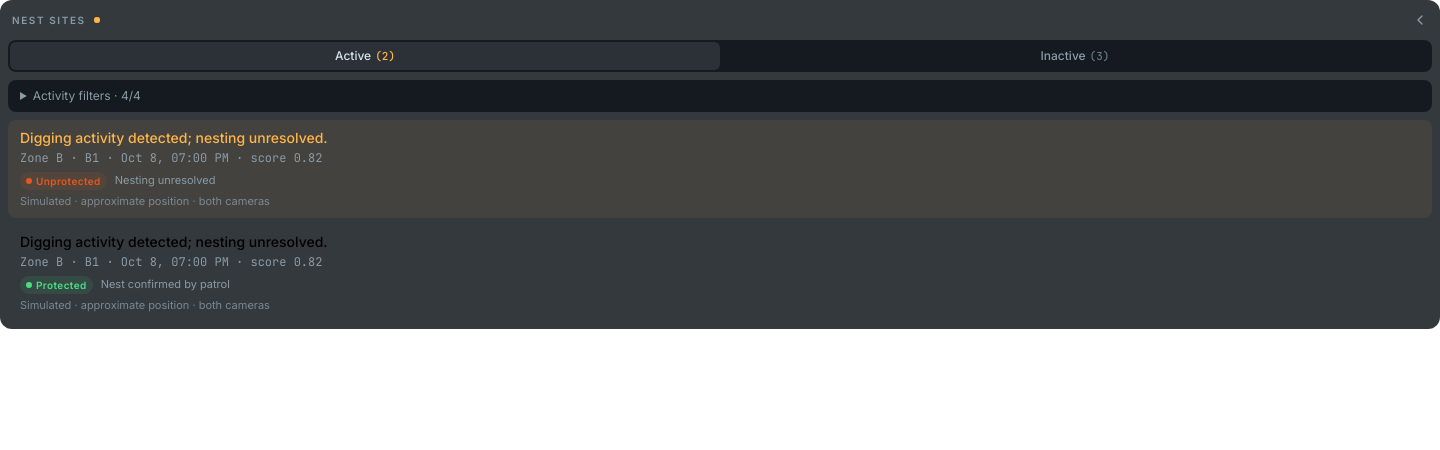
Test: AlertsFeed › switches to inactive sites showing their outcome, dimmed
Click the radio button labelled "Inactive (3)" at (1075, 56), box [720,42,1430,70]
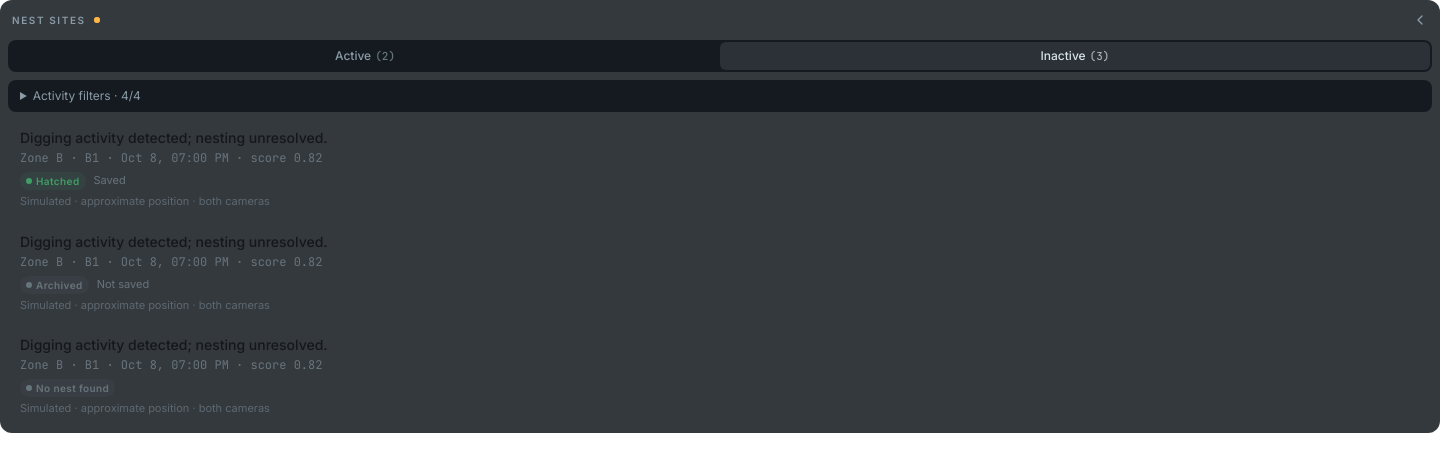
Expected: the number of buttons "Digging activity detected" is 3, [8,120,1432,218]; [8,224,1432,321]; [8,327,1432,425]
Expected: the text "Hatched" is shown, [20,172,86,190]
Expected: the text "Archived" is shown, [20,276,89,294]
